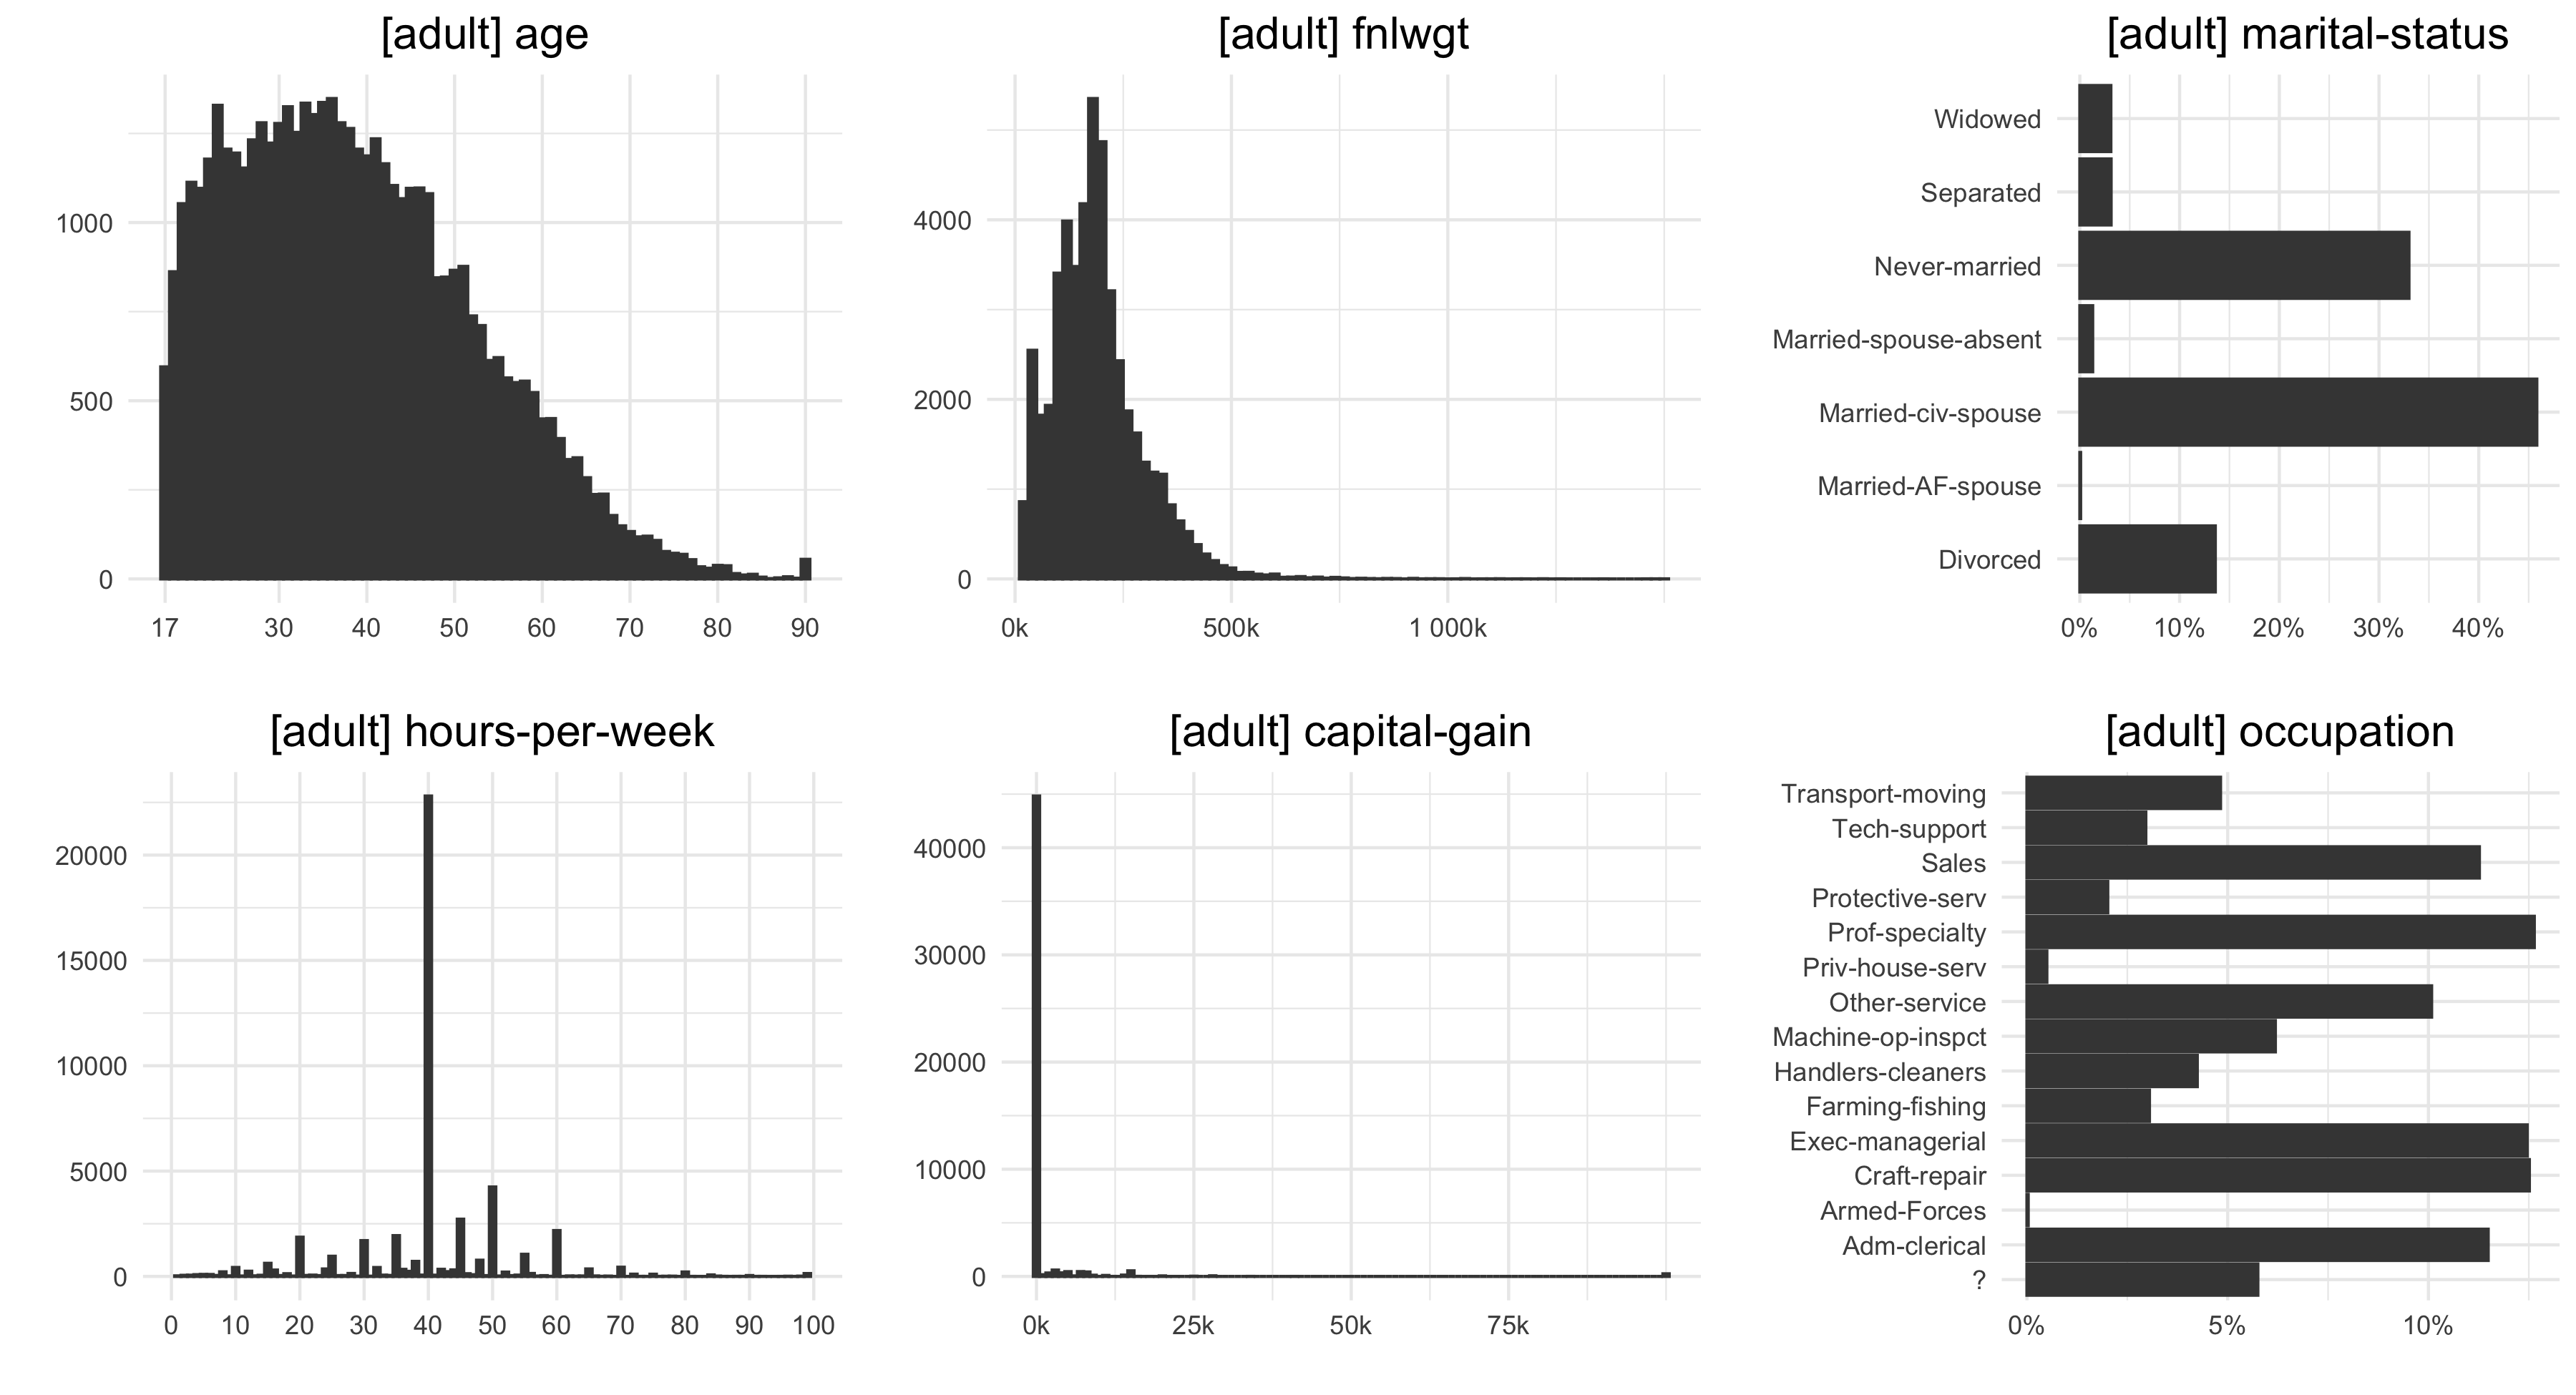

What the dashboard file says about the page in this screenshot:
{"tool":"tableau","page":{"name":"df_all","canvas":[1000,700],"ordinal":1},"visuals":[{"type":"worksheet","title":"df1","mark":"Automatic","rows":["priv_share"],"cols":["fid3_ratio"],"box":[8,8,412,342]},{"type":"worksheet","title":"df2","mark":"Shape","rows":["priv_share"],"cols":["fid3_ratio"],"box":[420,8,412,342]},{"type":"blank","box":[832,8,160,32]},{"type":"legend","title":"df1","param":"[federated.0exfi0i05gmj3d14msn4h1me6b6n].[none:Calculation_5919700265430339584:n","box":[832,40,160,106]},{"type":"worksheet","title":"df3","mark":"Shape","rows":["priv_share"],"cols":["fid3_ratio"],"box":[8,350,412,342]},{"type":"worksheet","title":"df4","mark":"Shape","rows":["priv_share"],"cols":["fid3_ratio"],"box":[420,350,412,342]}]}

Visuals, with their boxes on the page's 1000x700 design canvas (x1, y1, x2, y2). These are canvas units, not pixel positions in the 2576x1395 screenshot, which may show the page scaled, cropped or inside an application window:
"df1" worksheet: Rect(8, 8, 420, 350)
"df2" worksheet (Shape marks): Rect(420, 8, 832, 350)
blank: Rect(832, 8, 992, 40)
"df1" legend: Rect(832, 40, 992, 146)
"df3" worksheet (Shape marks): Rect(8, 350, 420, 692)
"df4" worksheet (Shape marks): Rect(420, 350, 832, 692)
